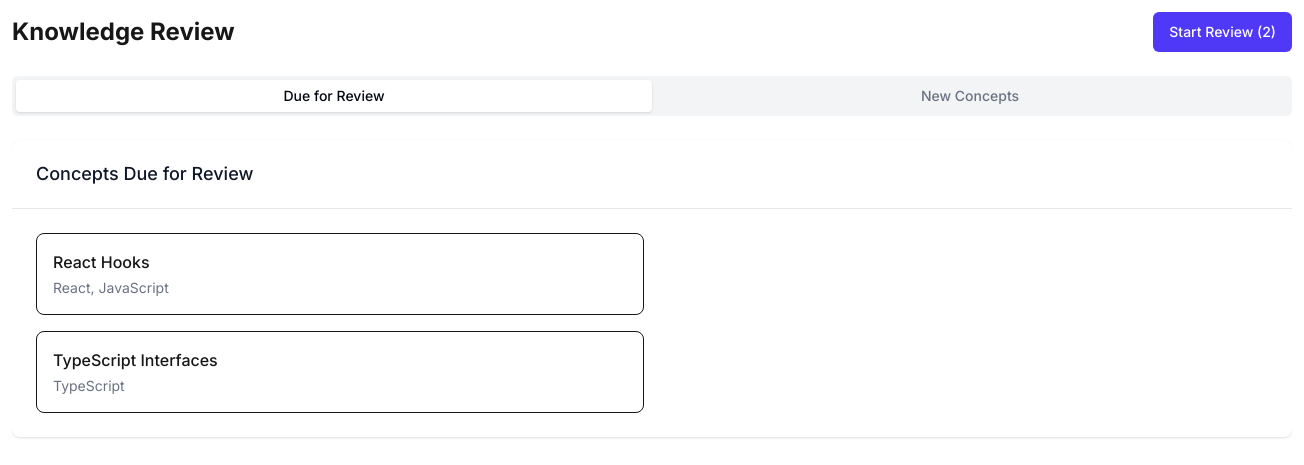
Test: ReviewList Component › displays concept details when a concept is clicked
// Click on a concept
Click the heading "React Hooks": (101, 262) [53,252,150,272]
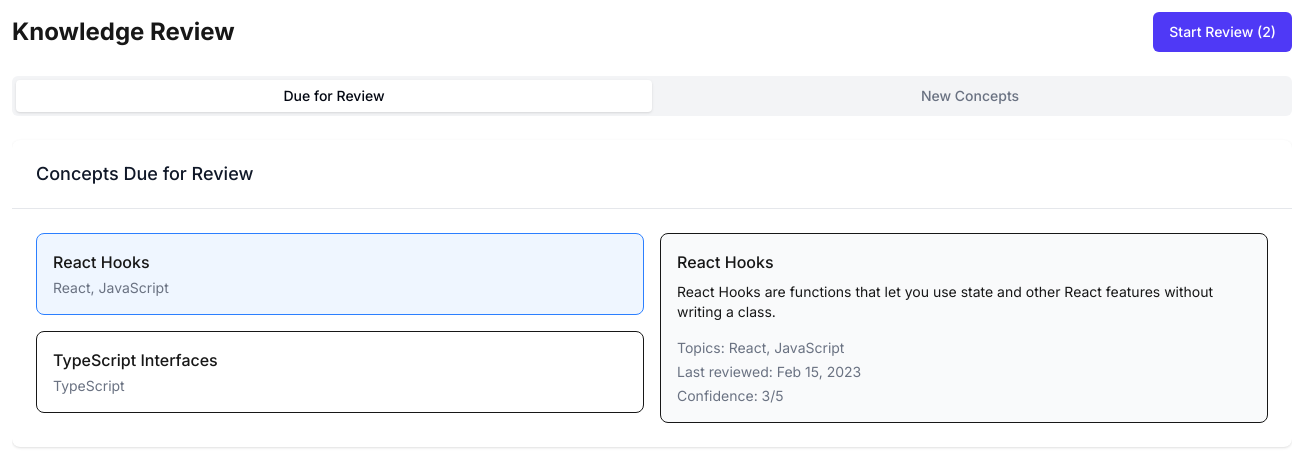
Check: the text "React Hooks are functions that let you use state and other React features without writing a class." is shown, box [677,283,1213,320]
Check: the text "Topics: React, JavaScript" is shown, box [677,339,844,356]
Check: the text "Last reviewed: Feb 15, 2023" is shown, box [677,363,861,380]
